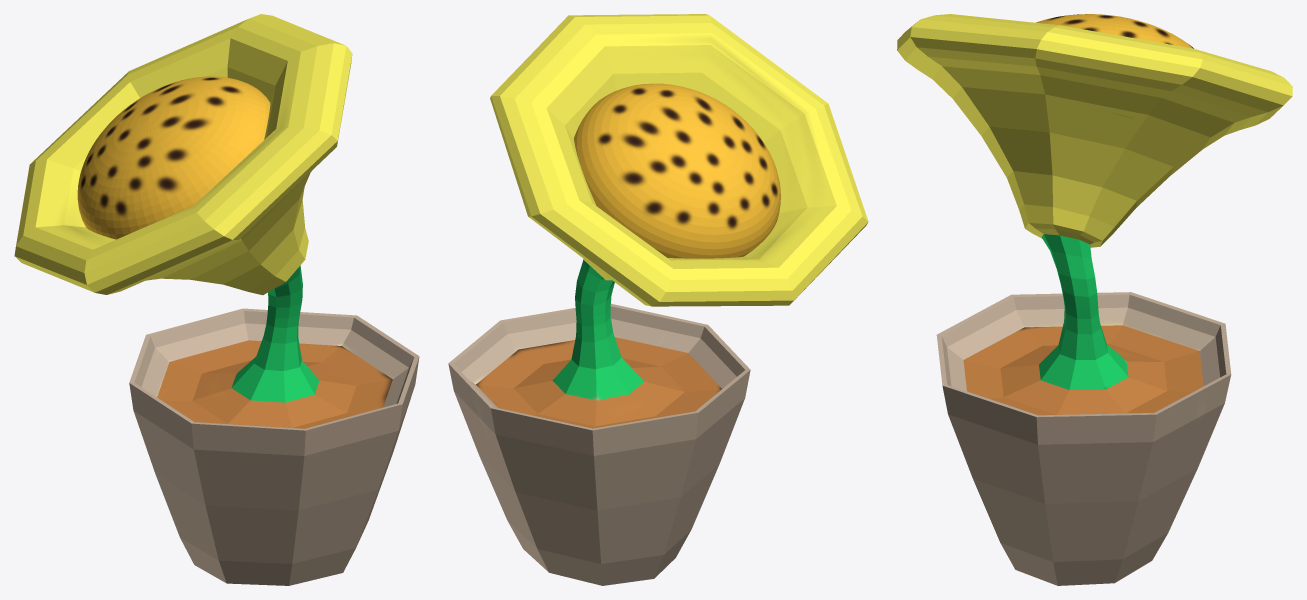
The model's file is FlowerPlant.fbx.
3 views of the same model, side by side, from view 1: azimuth 30°, elevation 25°; view 2: azimuth 150°, elevation 25°; view 3: azimuth 270°, elevation 25° (orthographic). The views are drawn at different scales.
Visible parts, largest first — view 1: Flower; view 2: Flower; view 3: Flower.
Boxes of the visible parts, x1=… form: Flower: x1=14, y1=14, x2=419, y2=585; Flower: x1=448, y1=14, x2=868, y2=585; Flower: x1=897, y1=14, x2=1292, y2=585.
Bounding box in the file's own units: 0.3793 × 0.537 × 0.3533.
